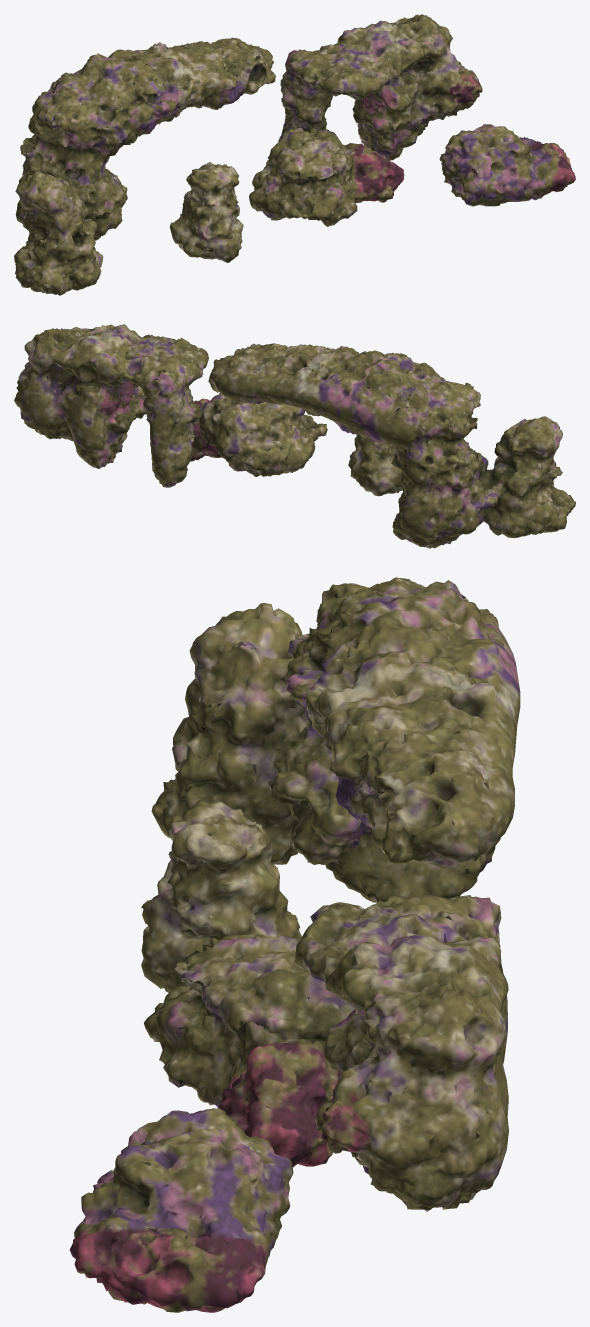
The model's file is rockscape.glb.
3 renders of one model, top to bottom at view 1: azimuth 30°, elevation 25°; view 2: azimuth 150°, elevation 25°; view 3: azimuth 270°, elevation 25°, orthographic. The views are drawn at different scales.
Visible parts, largest first — view 1: Rock; view 2: Rock; view 3: Rock.
Part boxes in pixels (bbox=[...]): Rock: bbox=[14, 14, 575, 295]; Rock: bbox=[14, 324, 575, 548]; Rock: bbox=[69, 577, 520, 1312].
Size of the model in its own units: 122 by 37.41 by 45.26.
1 material, 1 textured.
